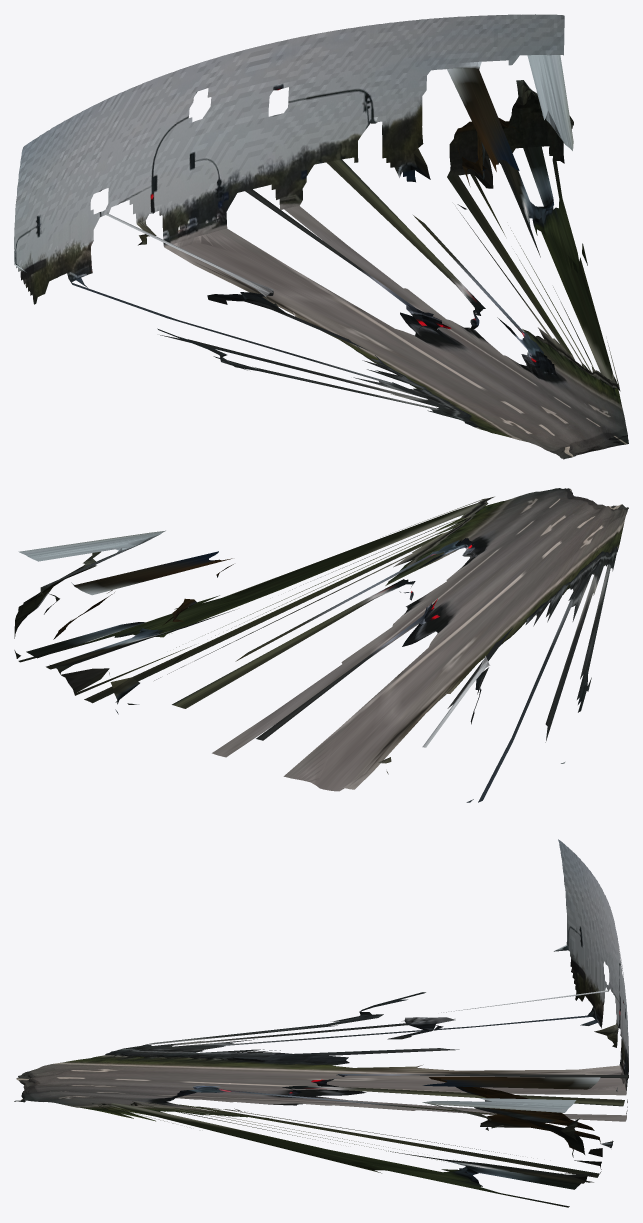
The picture shows the model from 3 angles, top to bottom: view 1: azimuth 30°, elevation 25°; view 2: azimuth 150°, elevation 25°; view 3: azimuth 270°, elevation 25°; orthographic projection. The views are drawn at different scales.
Parts seen in each view (by area): view 1: defaultobject; view 2: defaultobject; view 3: defaultobject.
Part boxes in pixels (box(x1,y1,x2,y2)): defaultobject: box(14, 14, 628, 459); defaultobject: box(14, 488, 628, 802); defaultobject: box(14, 839, 628, 1207).
Size of the model in its own units: 41.09 by 13.21 by 44.64.
1 material, 1 textured.
